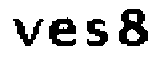8: (116, 4, 150, 50)
e: (48, 18, 79, 49)
s: (84, 16, 110, 50)
v: (11, 15, 44, 51)
